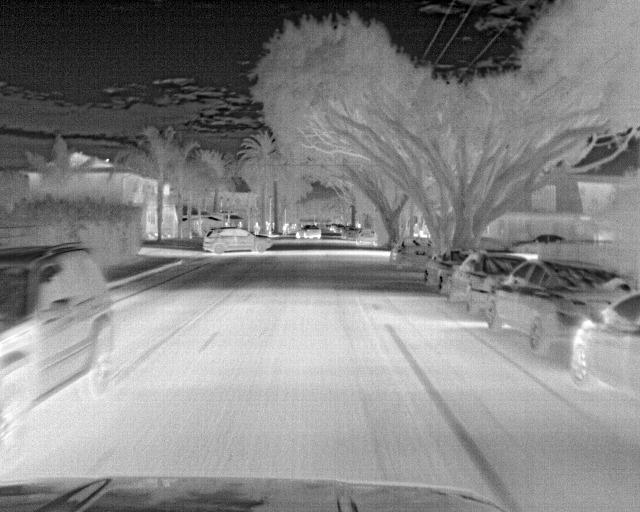car: (0, 243, 129, 427), (480, 262, 639, 356), (570, 293, 639, 404), (440, 249, 533, 323), (200, 225, 275, 255), (422, 249, 472, 294), (392, 236, 435, 275), (509, 233, 565, 255), (353, 224, 377, 247), (293, 223, 322, 241), (341, 225, 358, 239)
